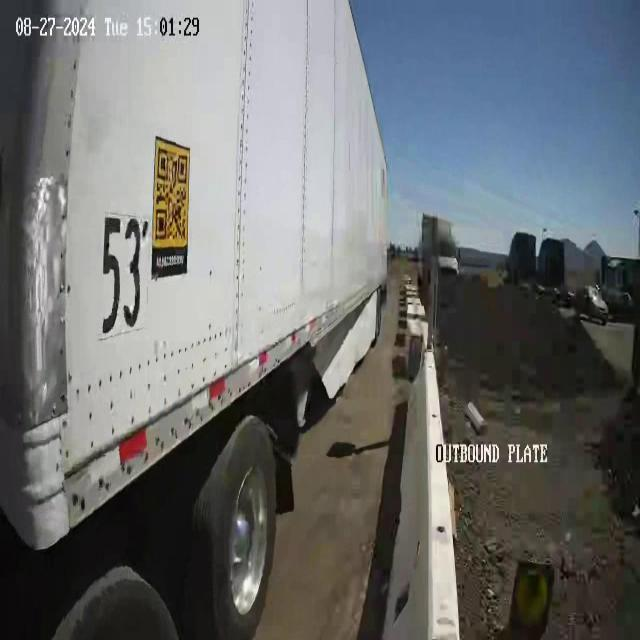TRUCK_OUT: (1, 1, 390, 554)
